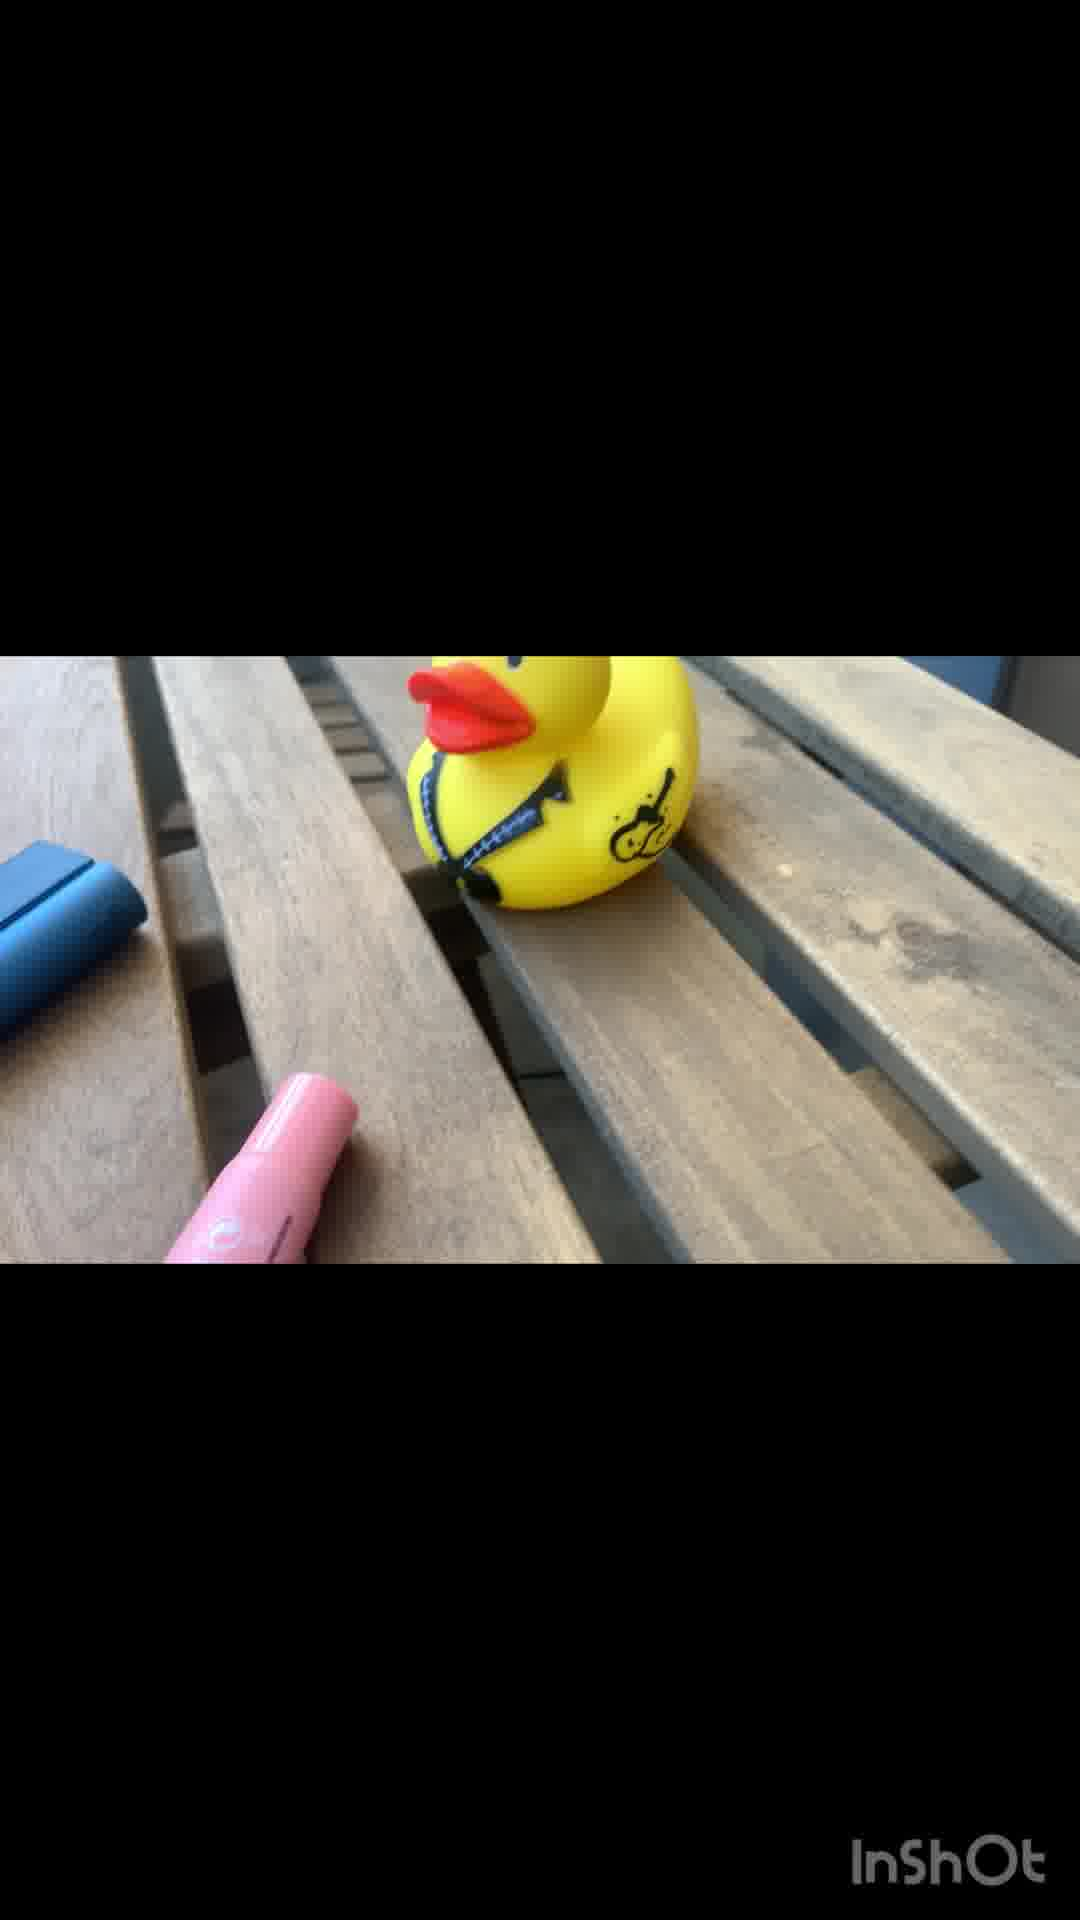duck: (396, 654, 733, 920)
glo: (1, 825, 156, 1039)
lip balm: (152, 1067, 367, 1269)
